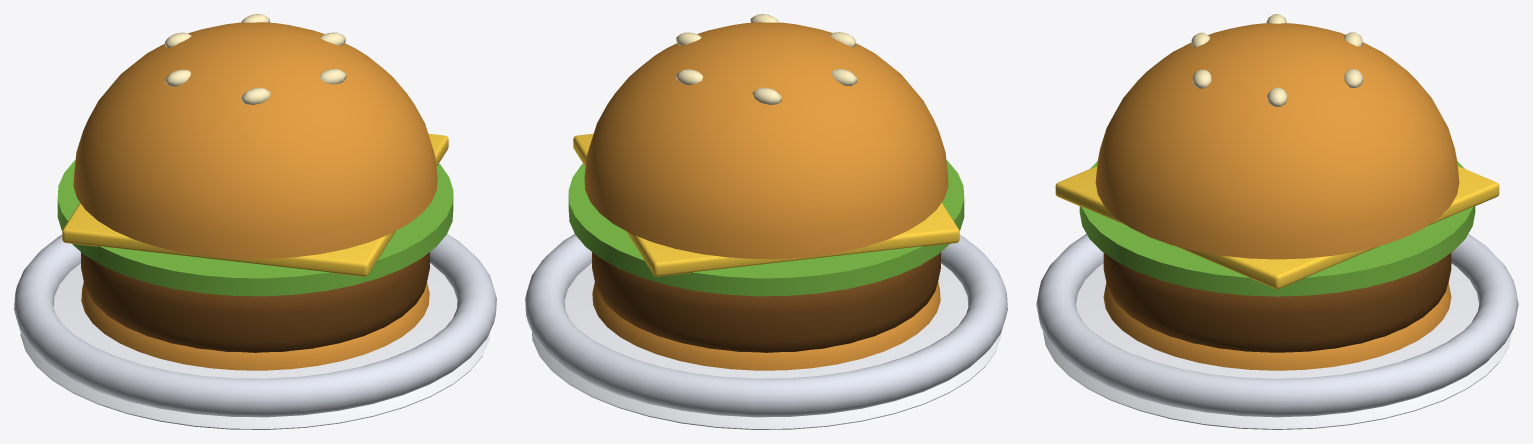
Rendered from dish_burger.glb.
The picture shows the model from 3 angles, left to right: view 1: azimuth 30°, elevation 25°; view 2: azimuth 150°, elevation 25°; view 3: azimuth 270°, elevation 25°; orthographic projection.
Parts seen in each view (by area): view 1: bun_top, rim, patty, plate, lettuce, bun_bottom, cheese; view 2: bun_top, rim, patty, plate, lettuce, bun_bottom, cheese; view 3: bun_top, rim, patty, plate, lettuce, bun_bottom, cheese.
Part boxes in pixels (x1,y1,x2,y2): bun_top: (73,22,437,258); rim: (14,234,496,417); patty: (81,252,429,352); plate: (20,263,489,429); lettuce: (57,160,453,296); bun_bottom: (81,281,429,370); cheese: (62,133,448,276); bun_top: (584,22,948,258); rim: (525,234,1007,417); patty: (592,252,940,352); plate: (532,263,1001,429); lettuce: (568,160,964,296); bun_bottom: (592,281,940,370); cheese: (573,133,959,276); bun_top: (1095,23,1459,259); rim: (1036,234,1518,417); patty: (1103,253,1451,352); plate: (1043,263,1511,429); lettuce: (1079,161,1475,296); bun_bottom: (1103,282,1451,370); cheese: (1055,166,1499,289).
Bounding box in the file's own units: 0.61 × 0.403 × 0.61.
